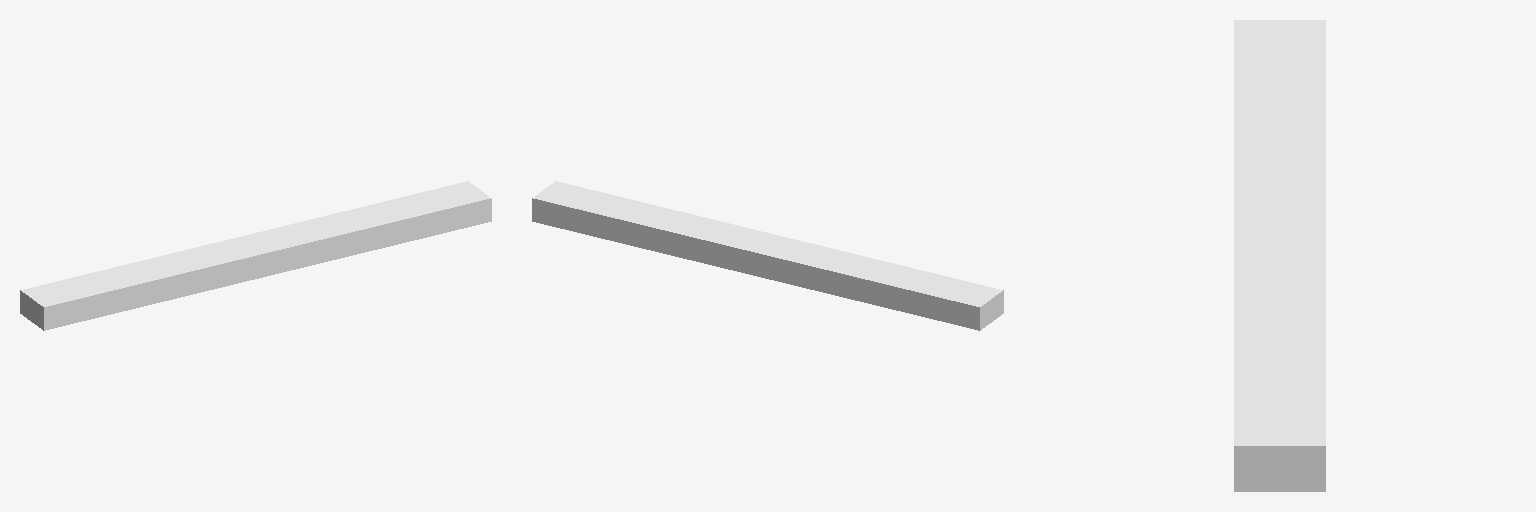
The robot description file, URDF, robot "conveyor":
<?xml version="1.0" ?>
<robot name="conveyor">
  <link name="conveyorLink">
  <contact>
      <lateral_friction value="1"/>
  </contact>
    <inertial>
      <origin rpy="0 0 0" xyz="0 0 0"/>
       <mass value=".0"/>
       <inertia ixx="0" ixy="0" ixz="0" iyy="0" iyz="0" izz="0"/>
    </inertial>
    <visual>
      <origin rpy="0 0 0" xyz="0 0 0"/>
      <geometry>
				<mesh filename="conveyor.obj" scale="2.5 2.5 15"/>
      </geometry>
       <material name="white">
        <color rgba="1 1 1 1"/>
      </material>
    </visual>
    <collision>
      <origin rpy="0 0 0" xyz="0 0 0"/>
      <geometry>
	 	<mesh filename="conveyor.obj" scale="2.5 2.5 15"/>
      </geometry>
    </collision>
  </link>
</robot>

--- What the picture shows (computed from the rendered views, not written in the file) ---
Views: 3 orthographic renders of the robot side by side, from view 1: azimuth 30°, elevation 25°; view 2: azimuth 150°, elevation 25°; view 3: azimuth 270°, elevation 25°.
Model conveyor with 1 links and 0 joints (none), rooted at conveyorLink, posed all joints at 0.
Links seen in each view (by area): view 1: conveyorLink; view 2: conveyorLink; view 3: conveyorLink.
Link boxes in pixels (x1,y1,x2,y2): conveyorLink: (20, 181, 491, 330); conveyorLink: (532, 181, 1003, 330); conveyorLink: (1234, 20, 1325, 491).
Bounding box of the posed robot: 7.5 × 0.6804 × 0.375 m (x, y, z).
1 mesh visuals loaded from 1 distinct referenced files (1 OBJ).
